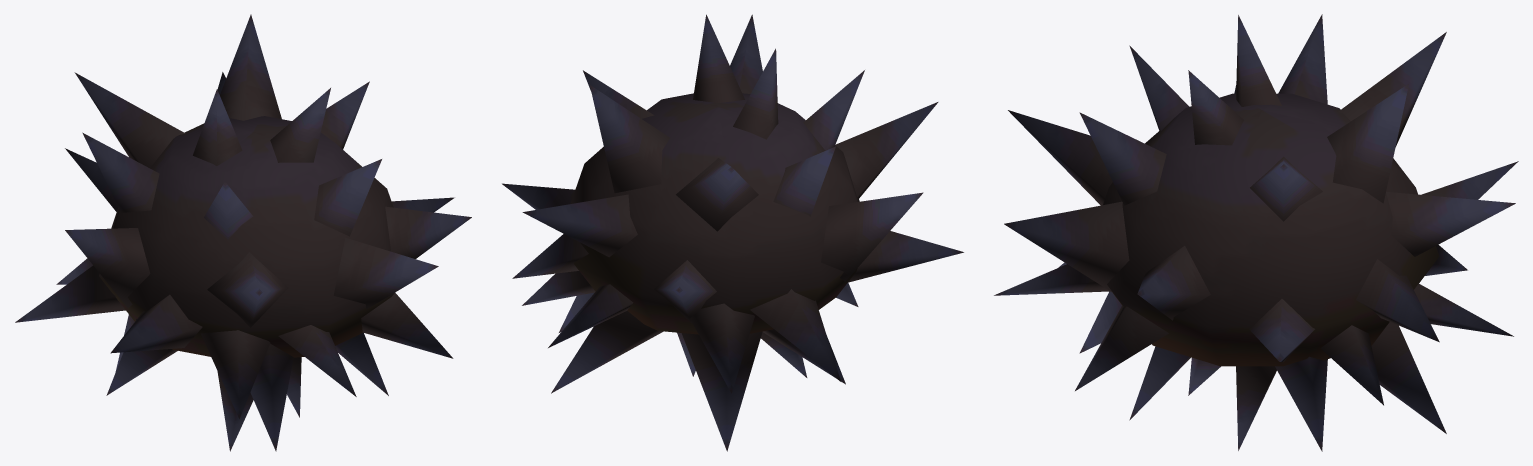
Rendered from throw10200004.fbx.
The picture shows the model from 3 angles, left to right: view 1: azimuth 30°, elevation 25°; view 2: azimuth 150°, elevation 25°; view 3: azimuth 270°, elevation 25°; orthographic projection. The views are drawn at different scales.
Parts seen in each view (by area): view 1: throw10200004; view 2: throw10200004; view 3: throw10200004.
Boxes of the visible parts, left/top/right/bottom form: throw10200004: left=15, top=14, right=471, bottom=451; throw10200004: left=502, top=14, right=963, bottom=451; throw10200004: left=994, top=14, right=1518, bottom=451.
Size of the model in its own units: 0.2986 by 0.2454 by 0.2983.
